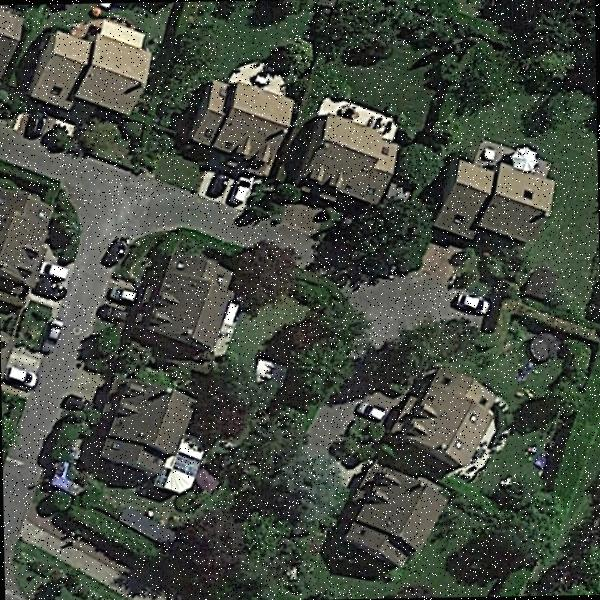Buildings: (348, 466, 444, 568), (44, 28, 142, 112), (422, 358, 488, 462), (117, 379, 184, 475), (198, 80, 282, 156), (452, 167, 548, 233), (166, 257, 226, 352), (308, 132, 383, 196), (0, 173, 43, 282), (0, 13, 19, 67)
